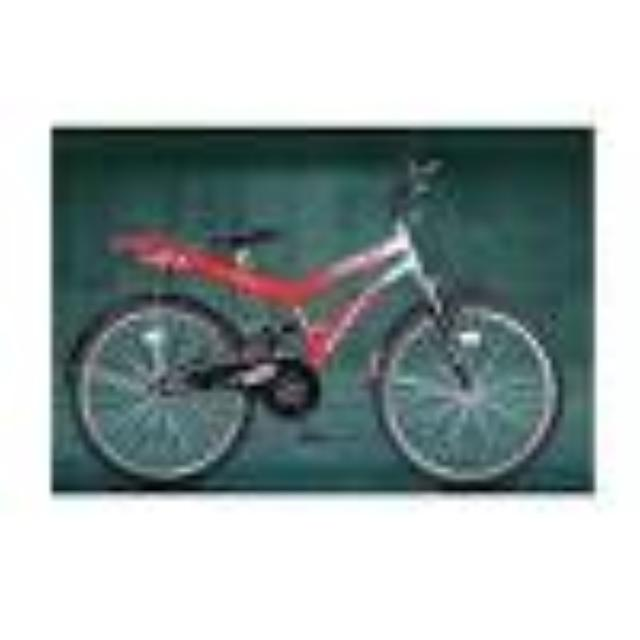obstacle: (70, 165, 574, 503)
